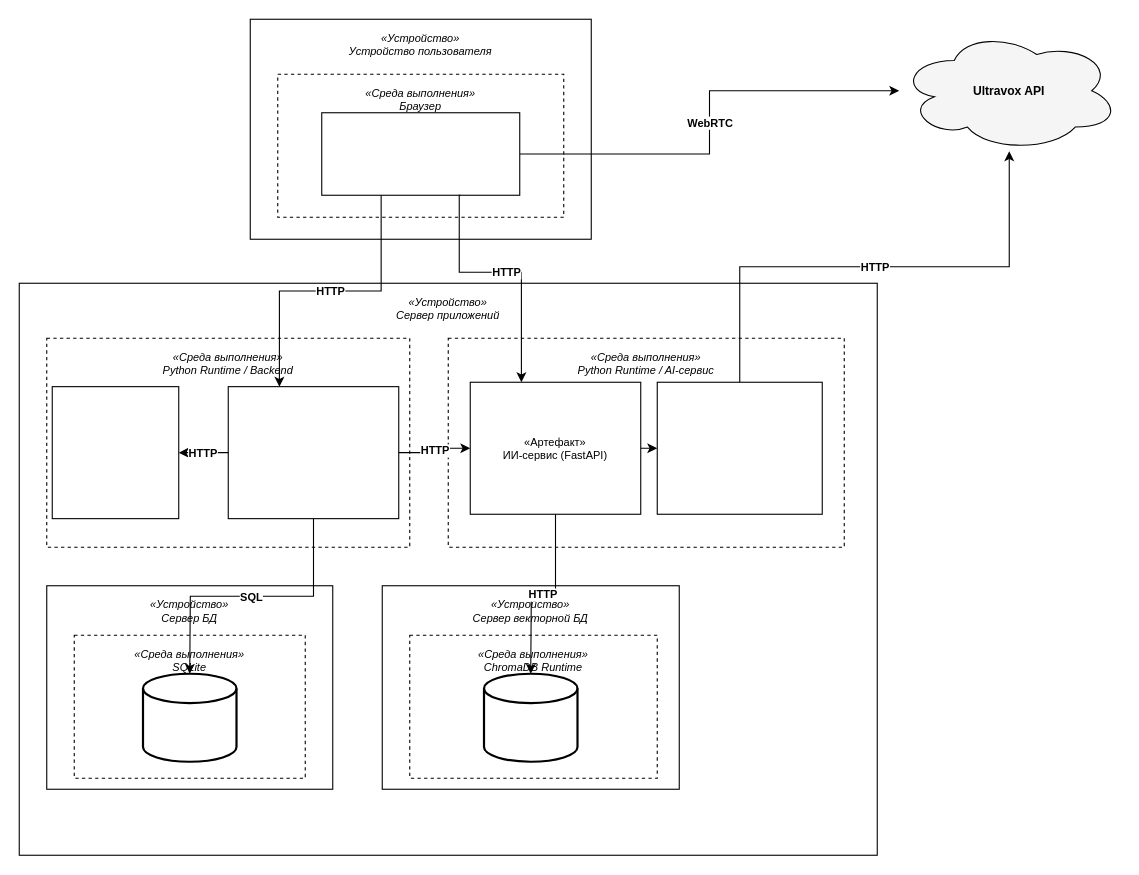
Image size: 1139x875. Some labels were removed from this diagram. The shapes that lost their labels are listed below. From the top down, each one's centre as x and y in pixels, then its label:
At [420,153]: "«Артефакт» Vue.js (SPA)".
At [115,452]: "«Артефакт» Platform Service (FastAPI)".
At [313,452]: "«Артефакт» Серверная часть (FastAPI)".
At [739,447]: "«Артефакт» Обработчик Ultravox (webhook)".
At [189,717]: "База данных (app.db)".
At [530,717]: "Векторная БД (ChromaDB)".
